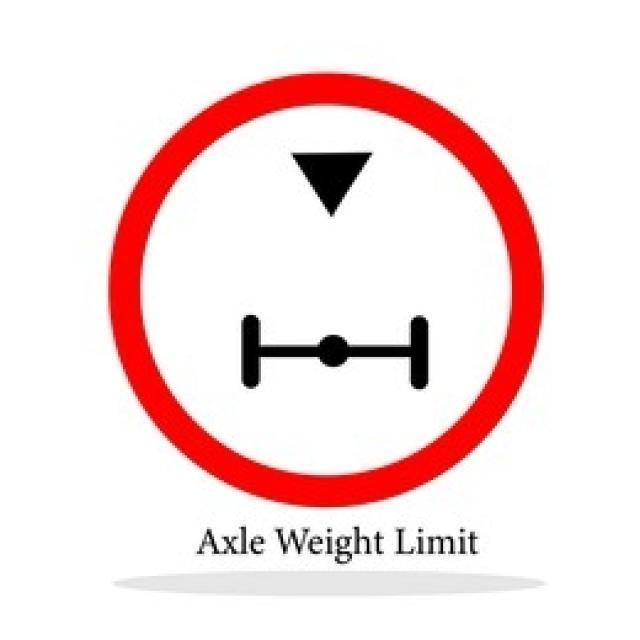axle load limit: (96, 61, 552, 517)
